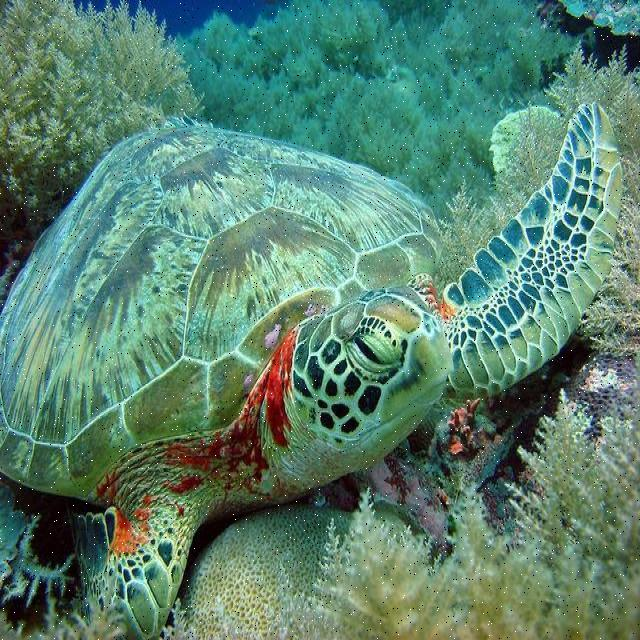aquatic plants: (267, 348, 639, 639), (0, 0, 206, 311)
fish: (0, 103, 621, 639)
